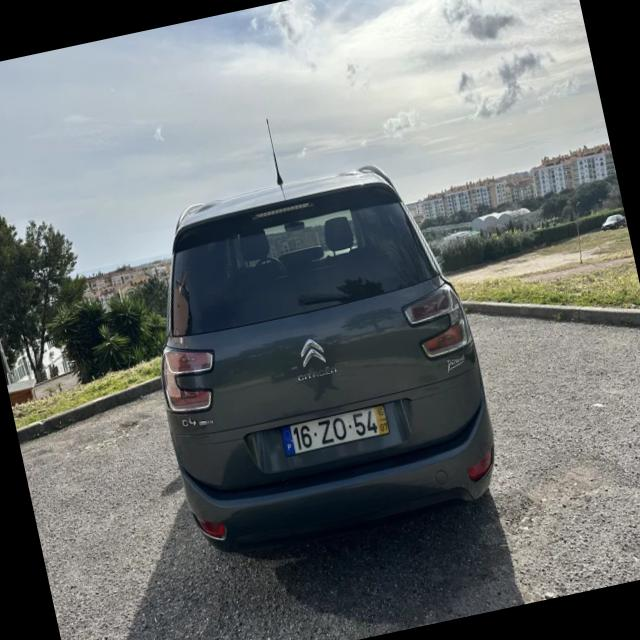portuguese-license-plates: (277, 401, 391, 459)
